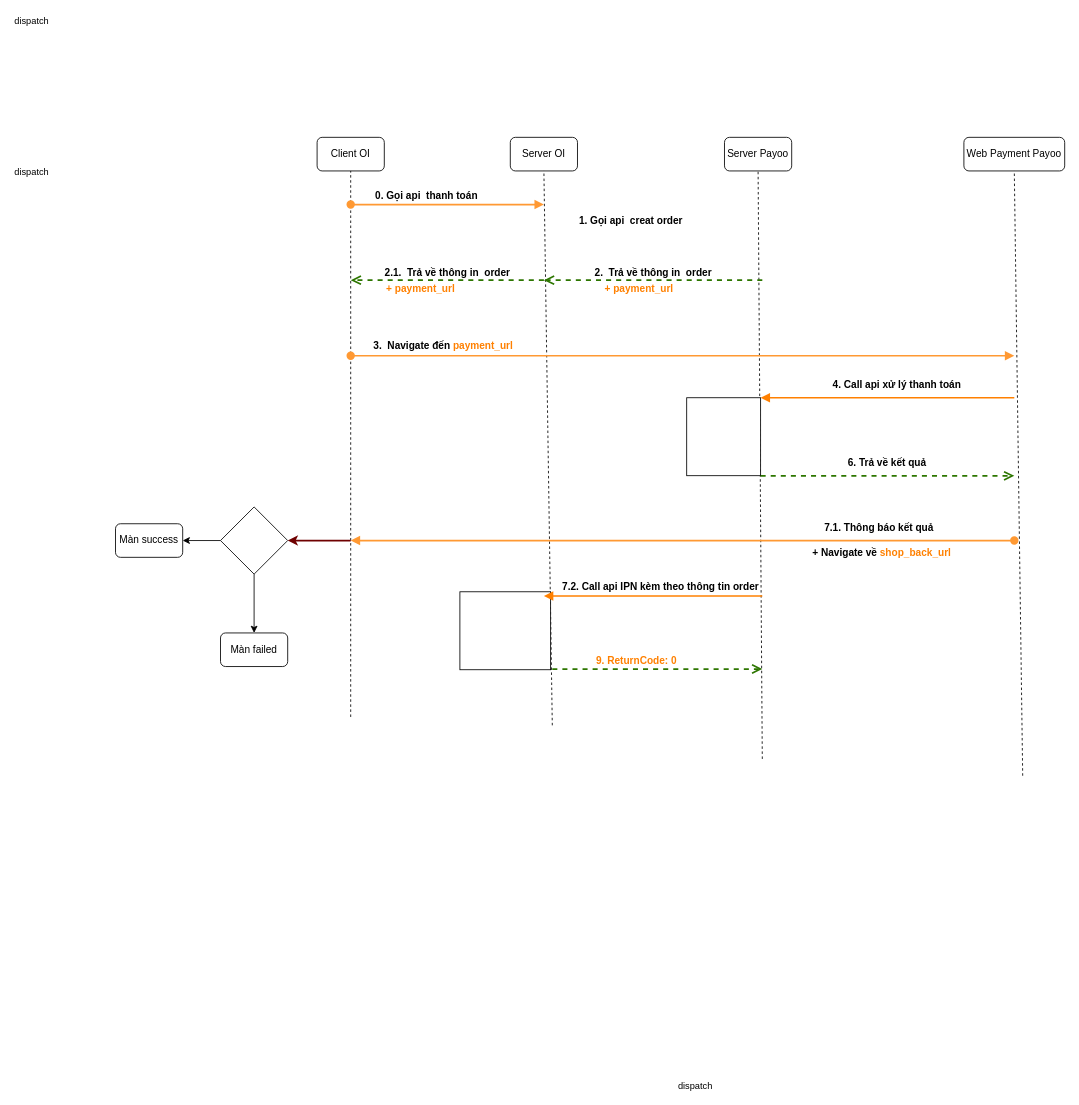
Some shapes in this 1079 by 1105 pixel diagram are drawn without their labels. The centre of each missing label's shape, as x and y in pixels:
"5. Xử lý data" belongs at point (723, 436).
"8. Verify info và Update vào database" belongs at point (505, 630).
"status" belongs at point (254, 540).
